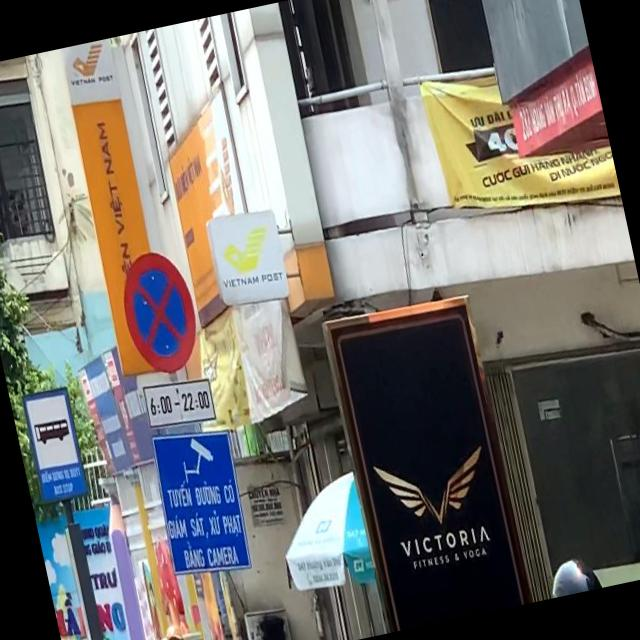P-130: (114, 246, 204, 376)
